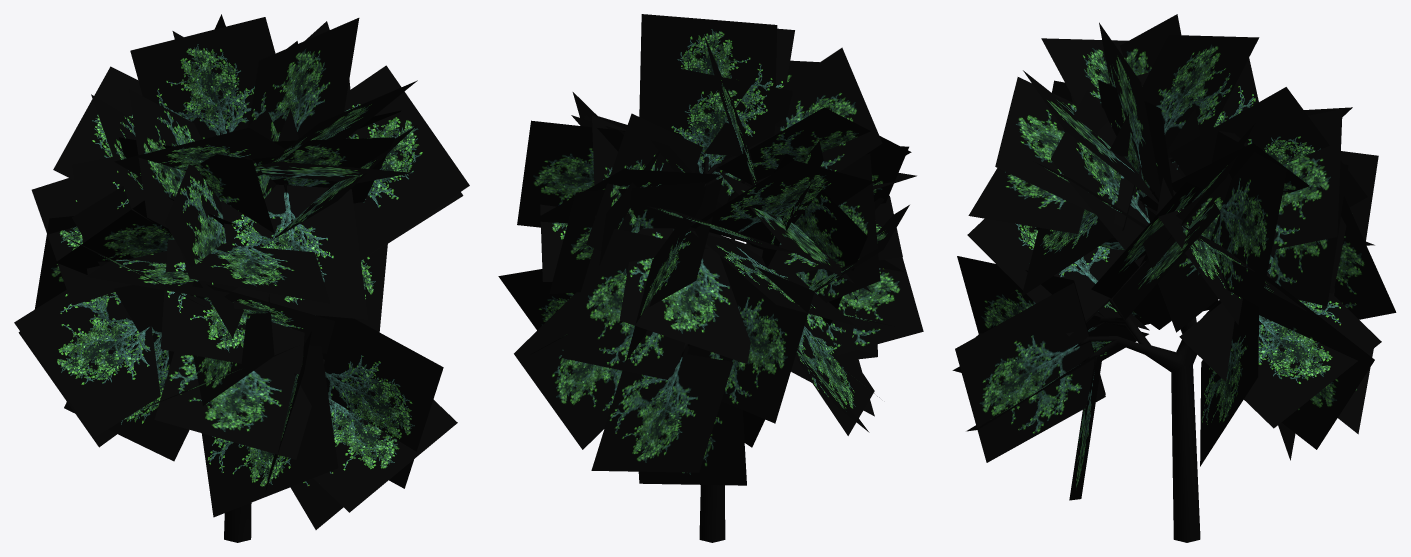
The model's file is tree76.glb.
The picture shows the model from 3 angles, left to right: view 1: azimuth 30°, elevation 25°; view 2: azimuth 150°, elevation 25°; view 3: azimuth 270°, elevation 25°; orthographic projection. The views are drawn at different scales.
Size of the model in its own units: 5.41 by 7.02 by 5.54.
Materials: 2 (1 with a texture image).
